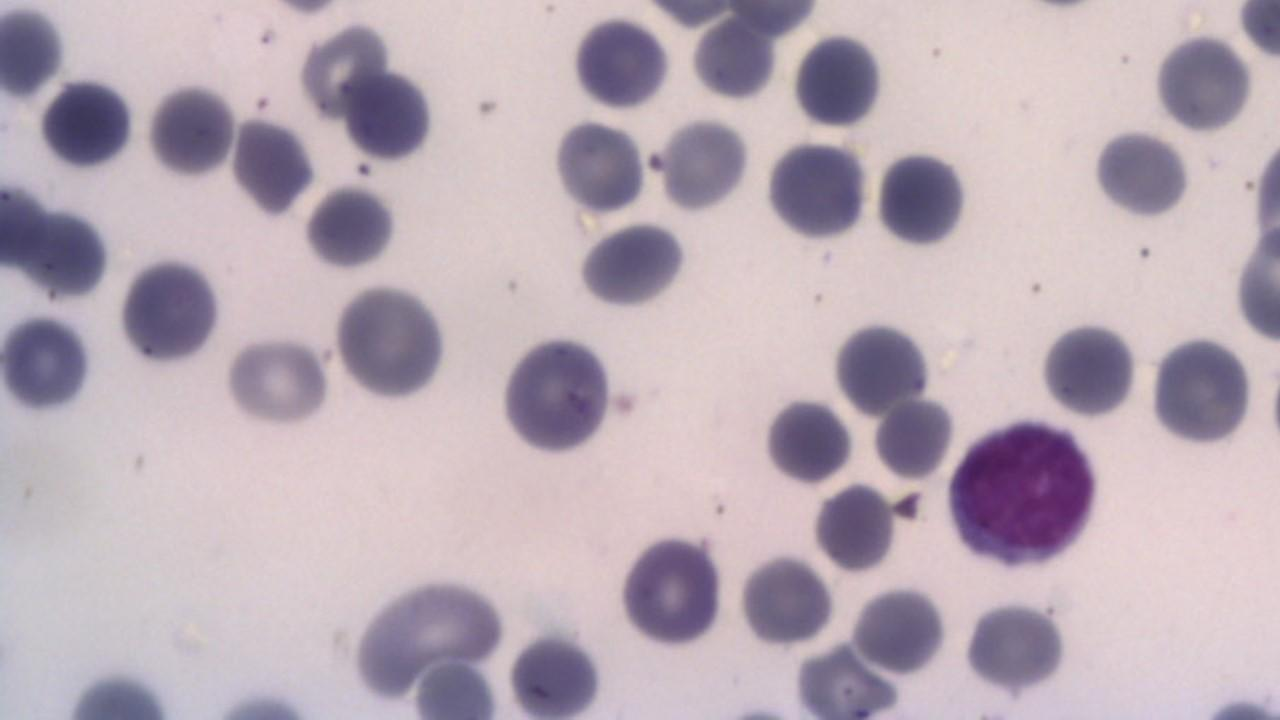RBC: (496, 330, 616, 460), (331, 279, 450, 405), (114, 250, 228, 369), (618, 528, 726, 652), (1144, 332, 1256, 451), (762, 136, 870, 245), (960, 596, 1076, 694), (827, 315, 936, 418), (1152, 29, 1254, 138), (34, 72, 140, 176), (1036, 318, 1144, 420), (572, 220, 690, 312), (2, 308, 99, 419), (872, 144, 970, 252), (1088, 123, 1194, 222), (788, 31, 890, 132), (342, 62, 440, 167), (570, 13, 672, 113), (144, 77, 240, 183), (503, 625, 611, 716), (552, 114, 646, 218), (738, 551, 835, 651), (660, 112, 752, 216), (229, 111, 315, 220), (300, 21, 386, 124), (304, 182, 400, 273), (760, 395, 854, 487), (809, 482, 897, 575), (688, 17, 776, 104), (0, 2, 70, 102), (1230, 220, 1280, 350), (1248, 117, 1280, 269), (723, 0, 820, 38), (213, 683, 317, 718), (1235, 1, 1279, 65), (1197, 686, 1279, 718)
WBC: (939, 412, 1108, 574)
